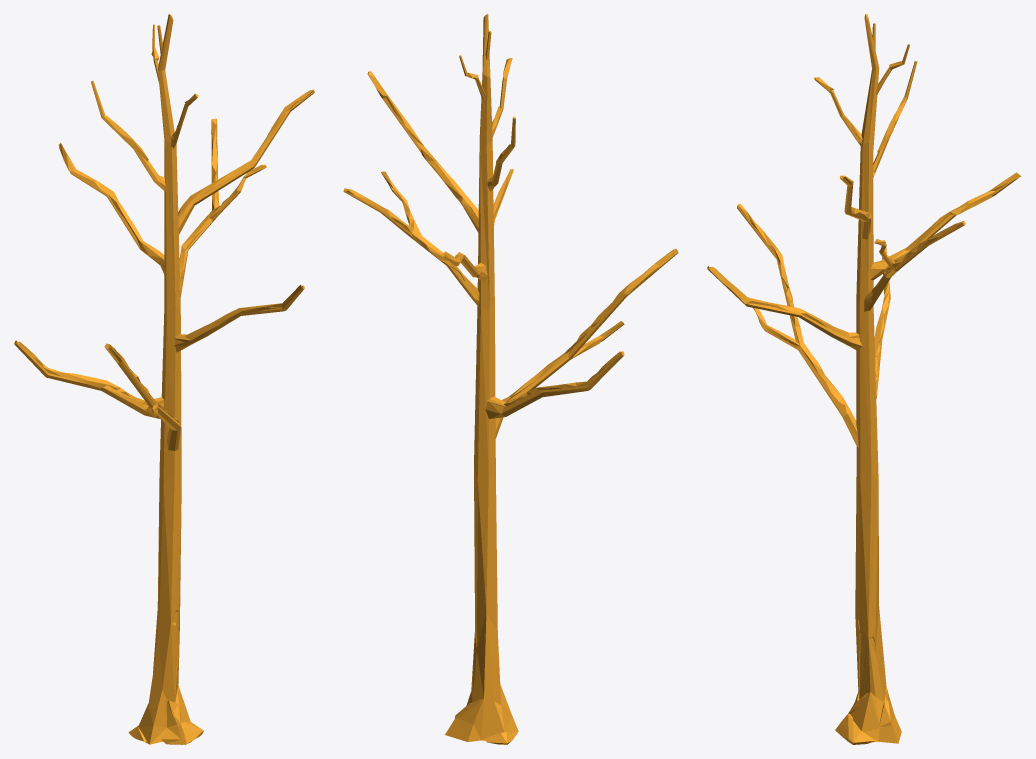
Rendered from SM_Tree_Beech_Dead_A_Snow.fbx.
3 views of the same model, side by side, from view 1: azimuth 30°, elevation 25°; view 2: azimuth 150°, elevation 25°; view 3: azimuth 270°, elevation 25° (orthographic).
Visible parts, largest first — view 1: tree-beech-dead-a-snow; view 2: tree-beech-dead-a-snow; view 3: tree-beech-dead-a-snow.
Part boxes in pixels (<box>): tree-beech-dead-a-snow: <box>14,14,314,744</box>; tree-beech-dead-a-snow: <box>343,14,678,744</box>; tree-beech-dead-a-snow: <box>707,14,1021,744</box>.
Size of the model in its own units: 4.12 by 10.2 by 4.05.
